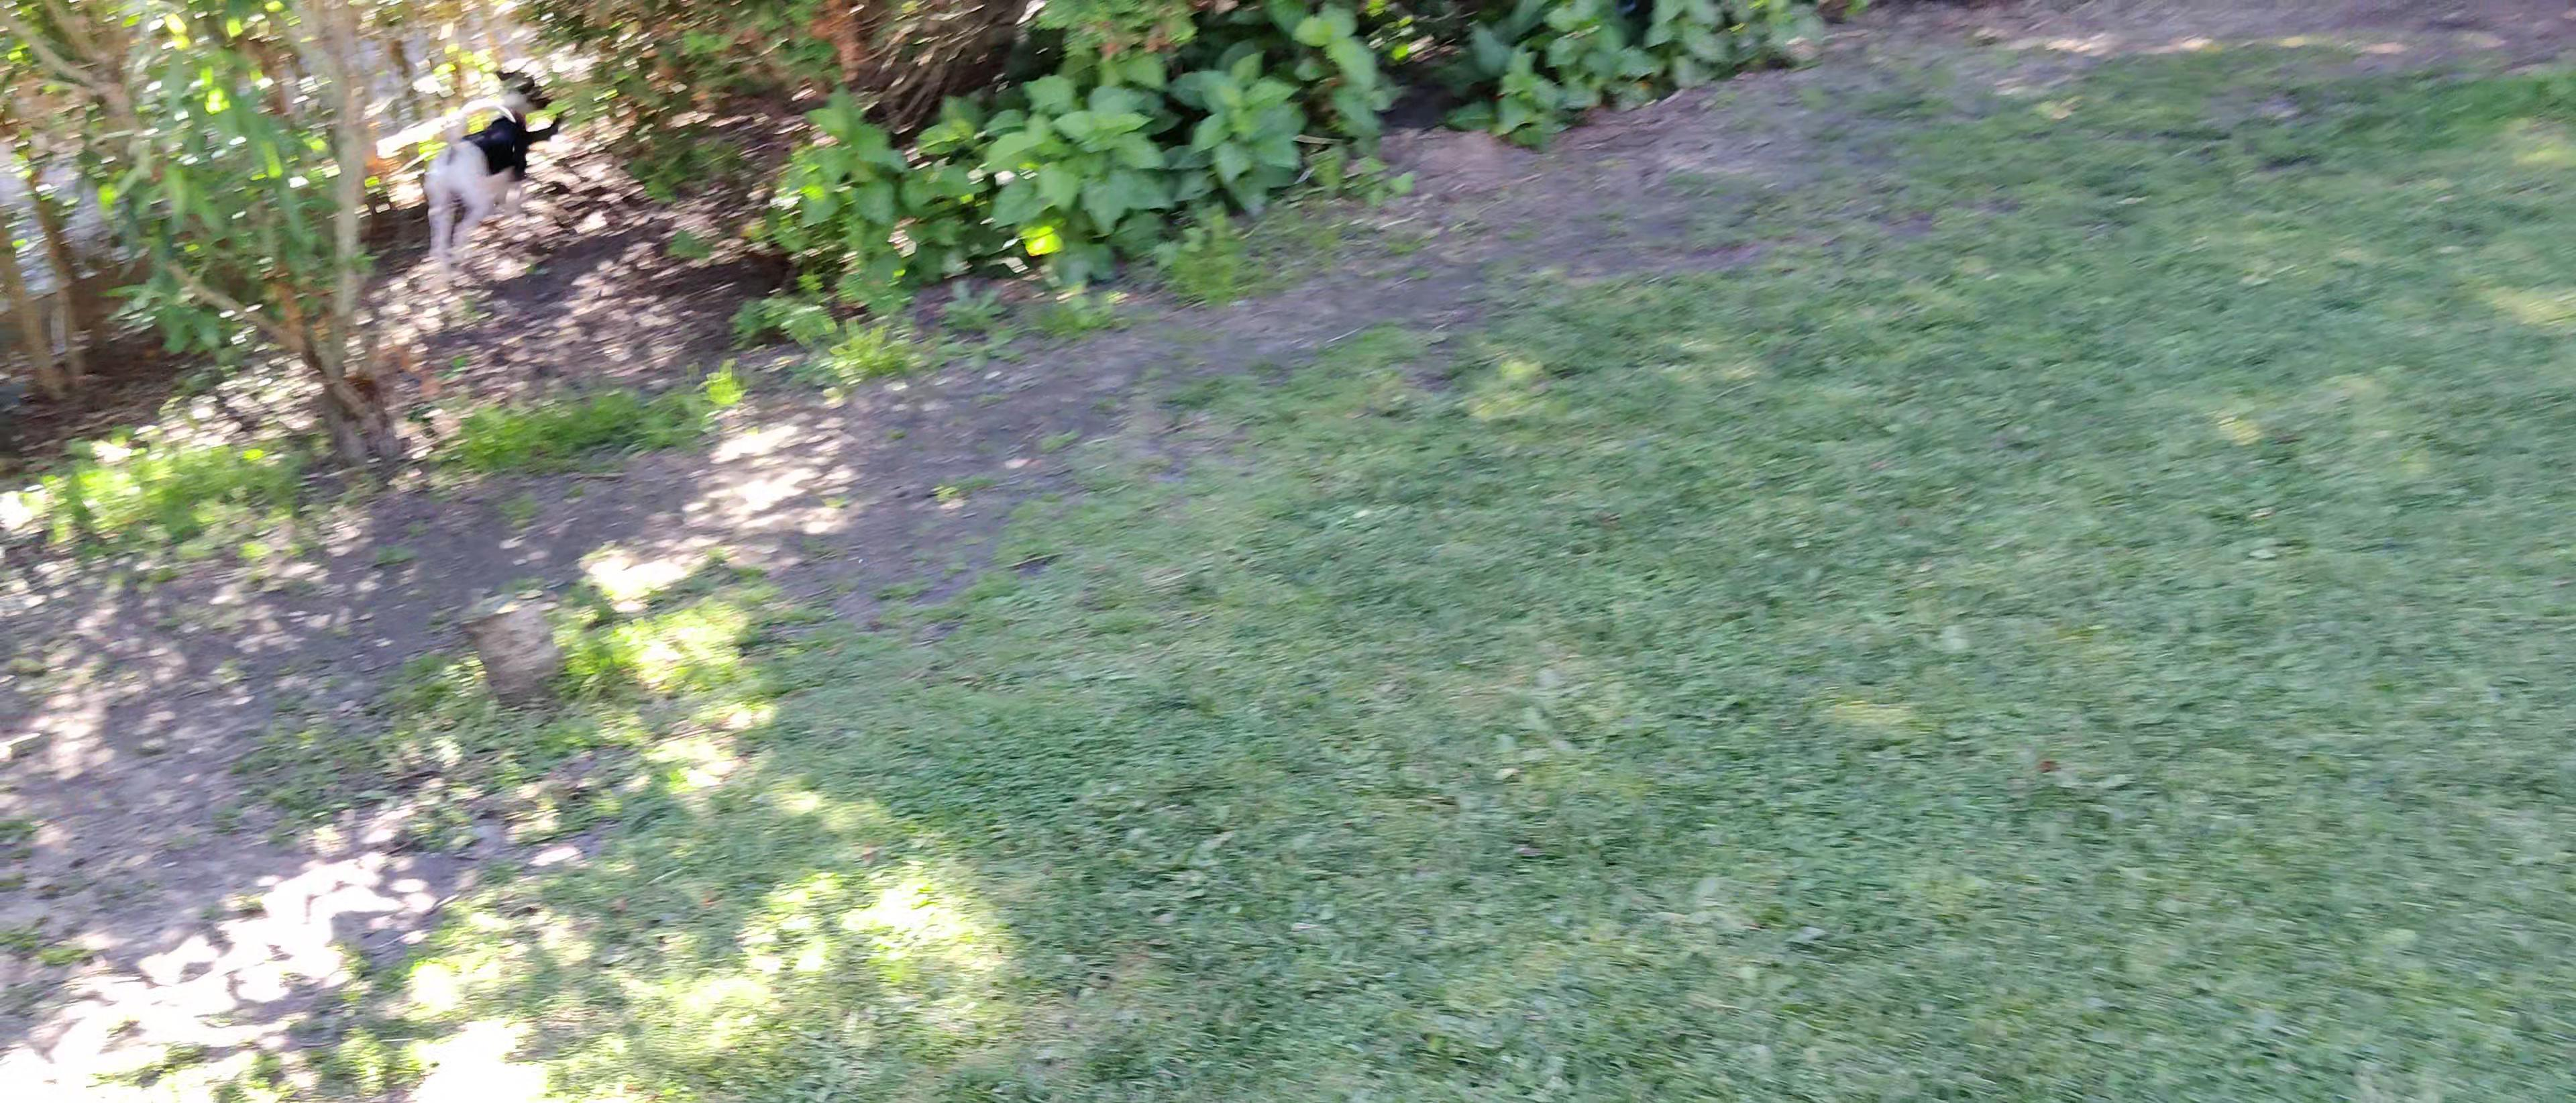Dog: (417, 62, 565, 265)
